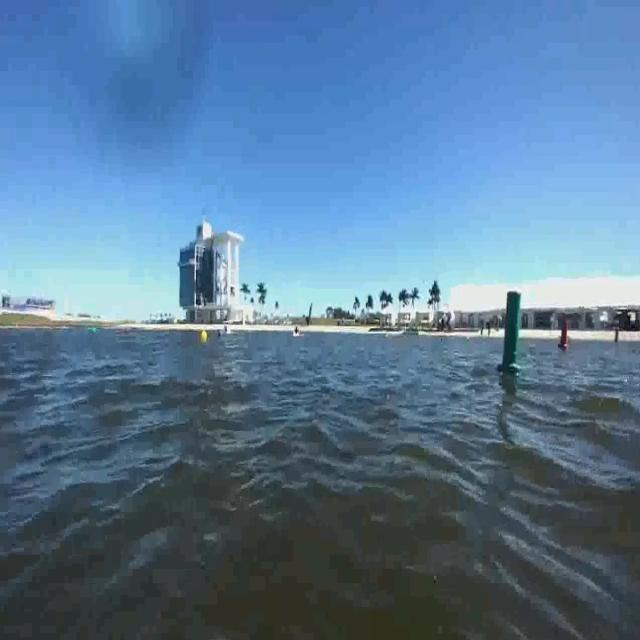green-column-buoy: (499, 288, 527, 376)
red-column-buoy: (558, 318, 572, 352)
yellow-buoy: (200, 329, 209, 346)
